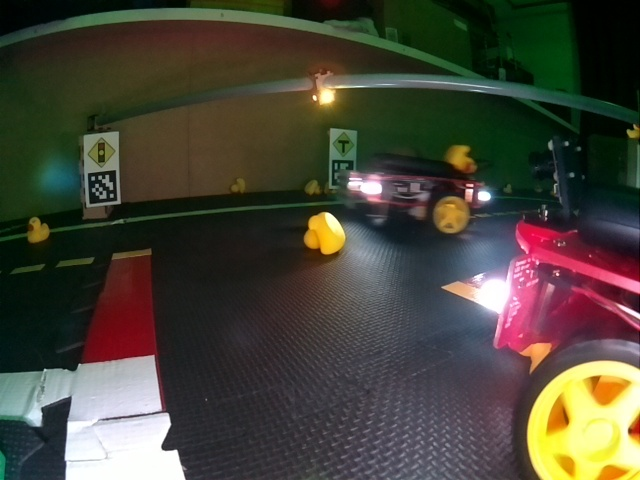Duckie: (304, 212, 346, 254), (447, 144, 475, 173), (26, 216, 50, 244), (231, 177, 246, 193), (305, 180, 321, 195)
Duckiebot: (492, 173, 639, 470), (346, 154, 491, 234)
Intersection sign: (331, 131, 356, 155)
QR code: (85, 172, 118, 205), (331, 160, 355, 186)
Signal sign: (85, 136, 119, 168)
Traffic light: (312, 70, 336, 106)
